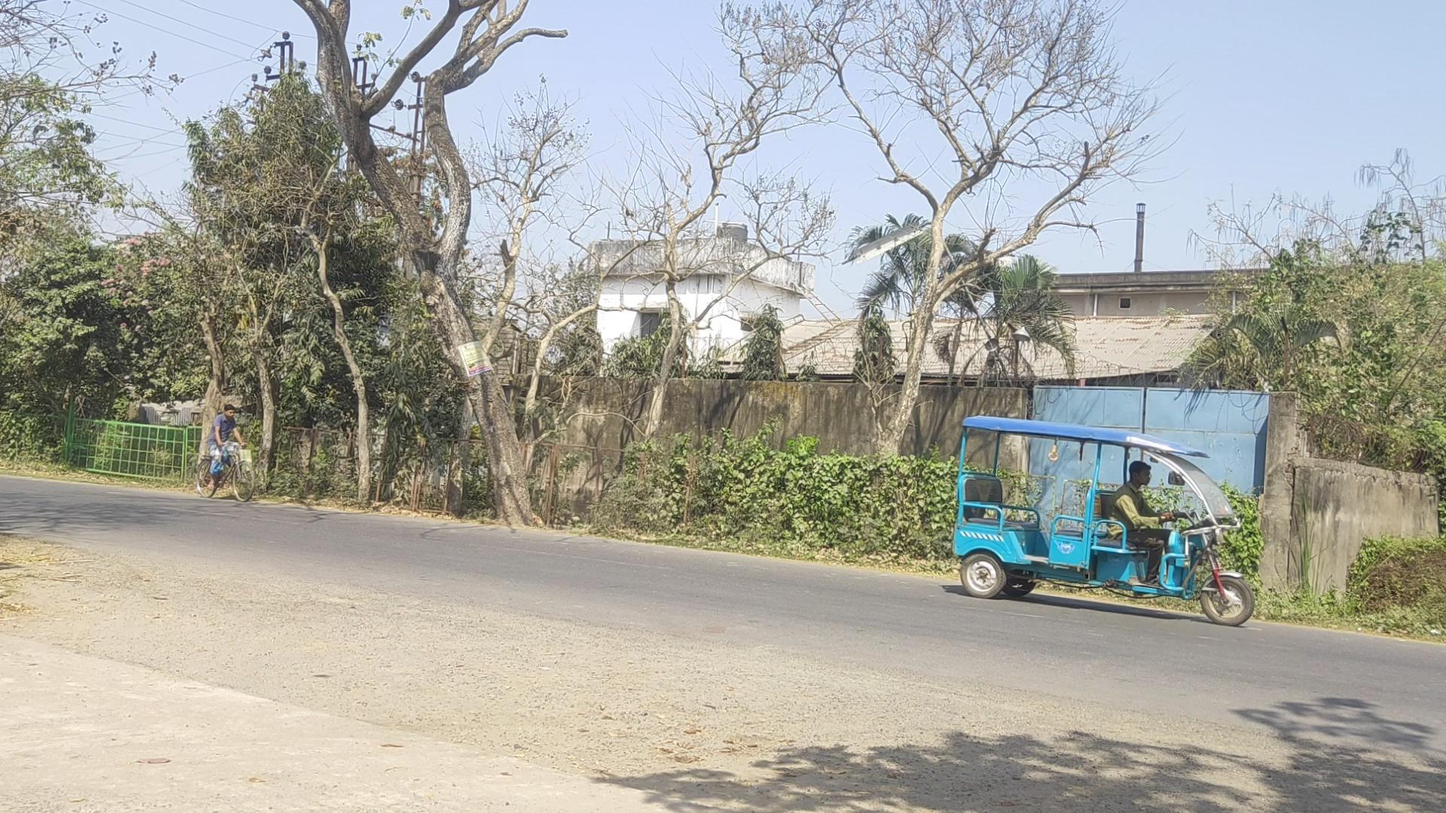Auto: (952, 414, 1255, 626)
bike: (196, 404, 255, 502)
